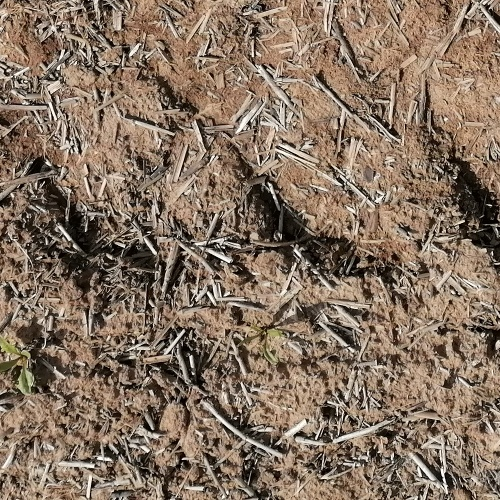beet: (0, 337, 34, 396), (243, 322, 283, 363)
